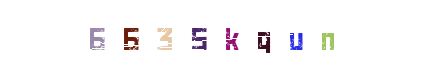3: (152, 0, 232, 80)
5: (162, 0, 242, 80)
6: (110, 0, 190, 80), (128, 0, 208, 80)
K: (180, 0, 260, 80)
N: (288, 0, 368, 80)
Q: (183, 0, 263, 80)
U: (256, 0, 336, 80)
